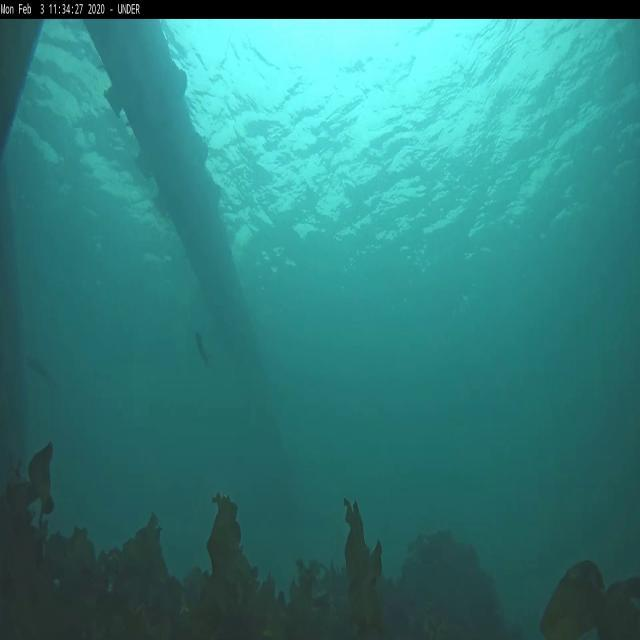fish: (193, 328, 216, 376), (26, 354, 56, 390)
